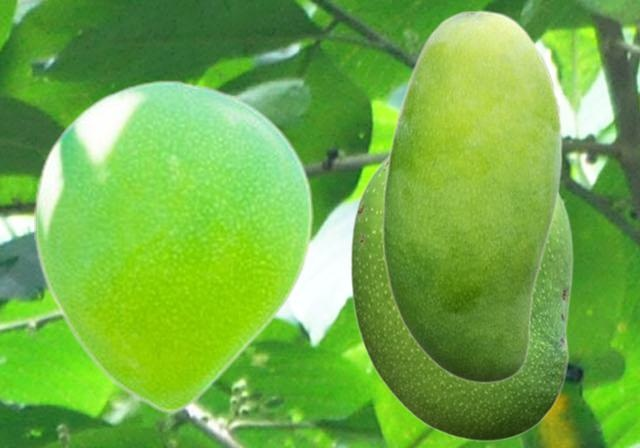green_mango: (34, 79, 312, 413), (381, 9, 562, 383), (349, 155, 572, 441)
